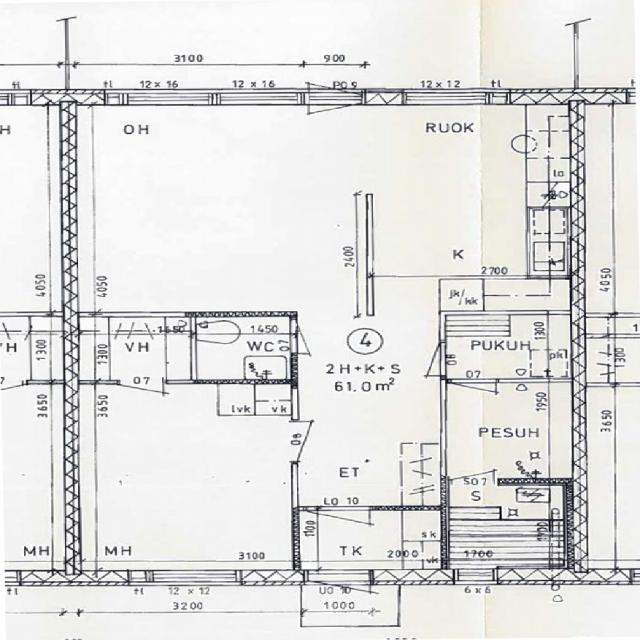door: (307, 569, 370, 629), (306, 506, 368, 555), (309, 89, 361, 142), (309, 52, 361, 104), (292, 421, 356, 461), (392, 342, 447, 376), (292, 319, 347, 353), (450, 378, 496, 416), (451, 448, 494, 485), (118, 380, 162, 416)
